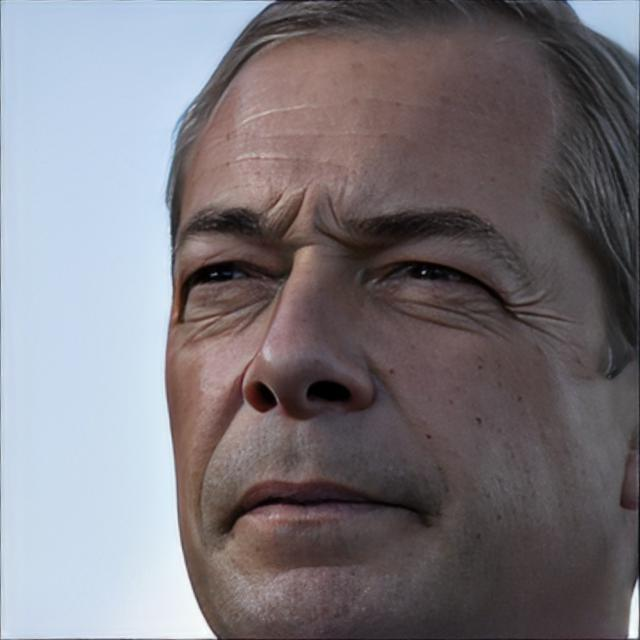anger: (158, 56, 598, 640)
